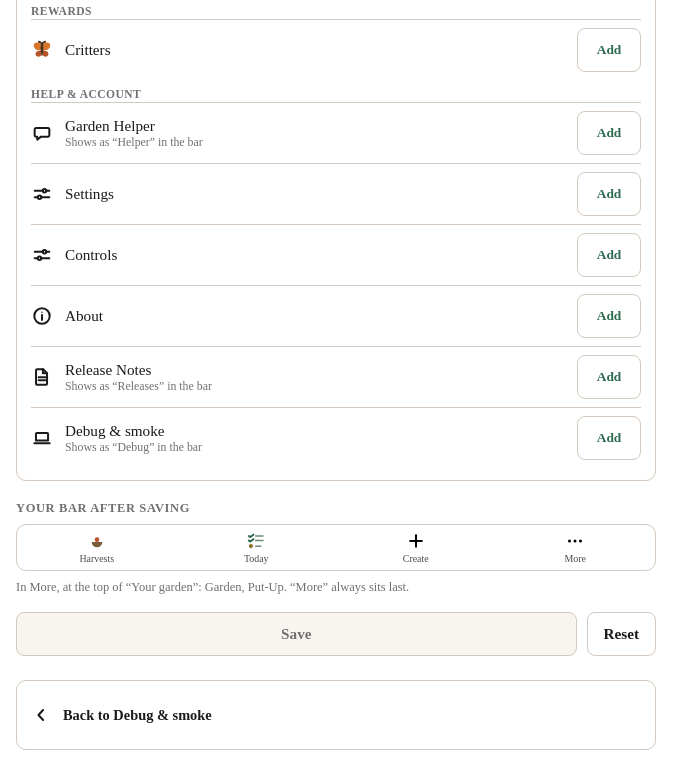
moving tabs — Today and ＋ never leave the bar › Reset restores the shipped order with nothing moved
(page scrolled)
Click the button "Reset". click: click(621, 634)
box: [587,612,656,656]
(page scrolled)
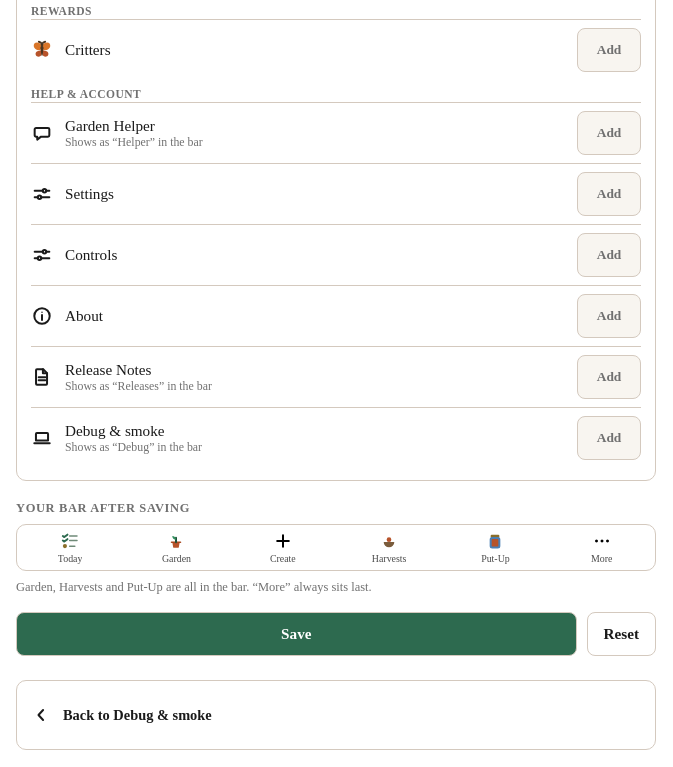
Now the button "Save" is enabled, box [16,612,577,656]
